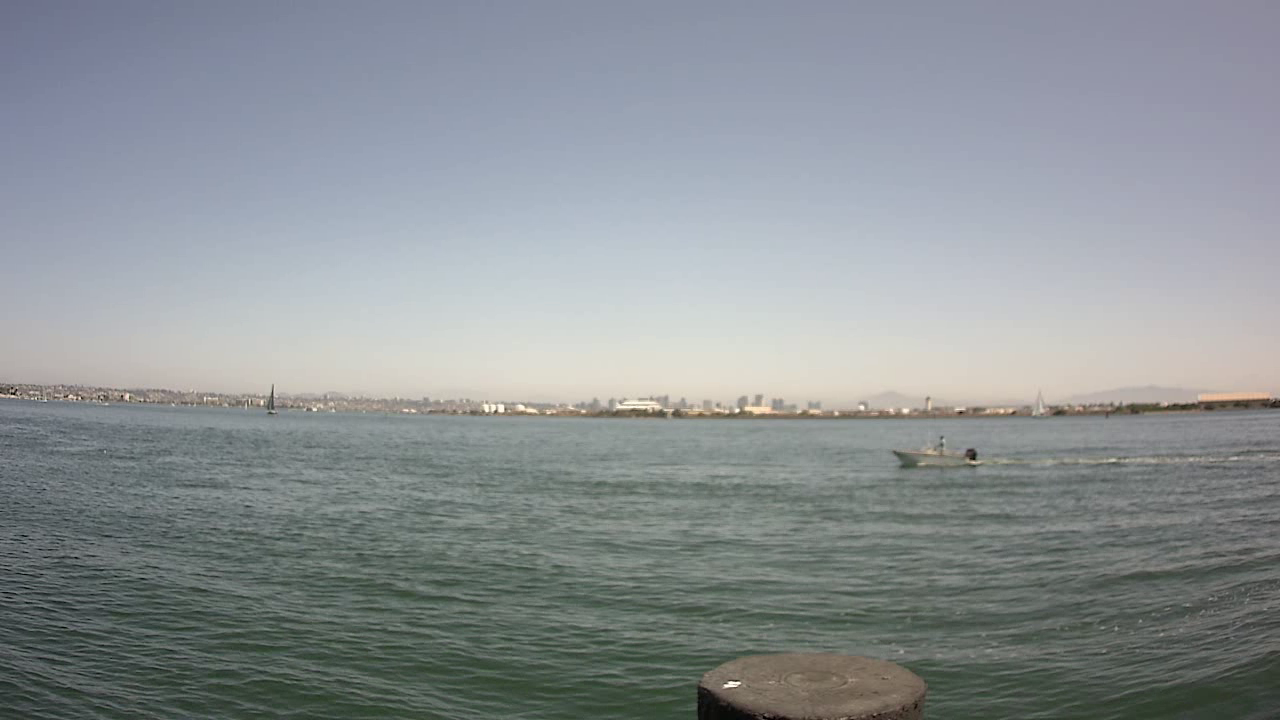target: (880, 419, 994, 481)
